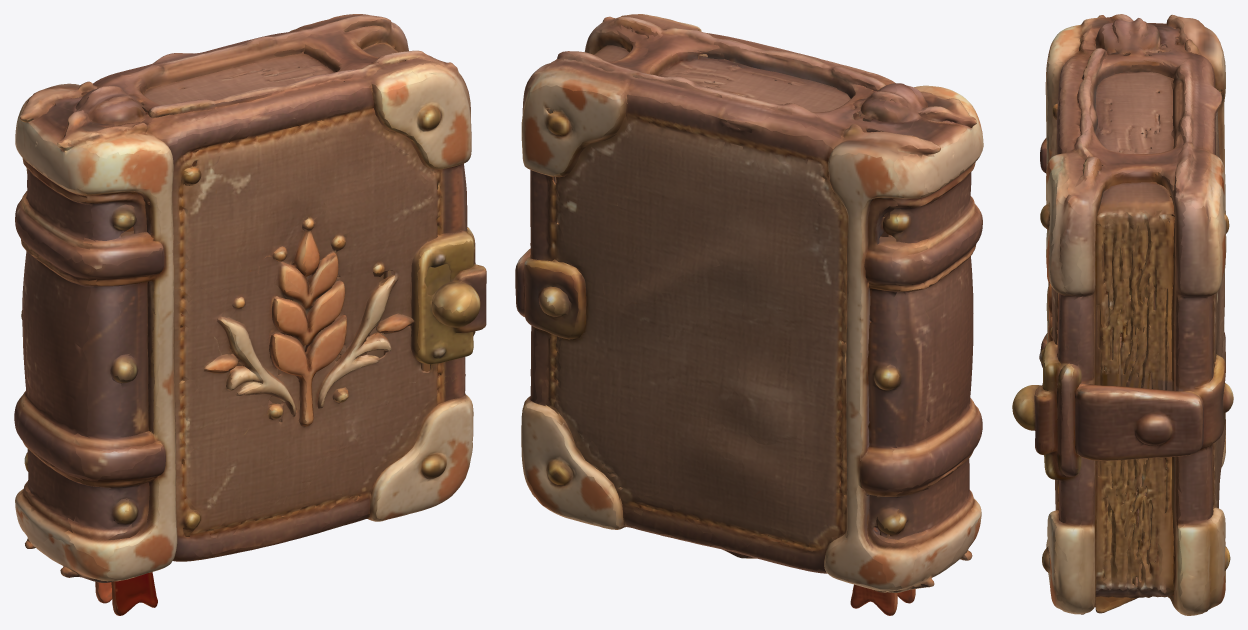
Rendered from A7_菜谱本_当前生成版.glb.
3 renders of one model, left to right at view 1: azimuth 30°, elevation 25°; view 2: azimuth 150°, elevation 25°; view 3: azimuth 270°, elevation 25°, orthographic. The views are drawn at different scales.
Parts seen in each view (by area): view 1: geometry_0; view 2: geometry_0; view 3: geometry_0.
Part boxes in pixels (box(x1,y1,x2,y2)): geometry_0: box(14, 14, 486, 615); geometry_0: box(515, 14, 983, 615); geometry_0: box(1012, 14, 1233, 615).
Bounding box in the file's own units: 0.15 × 0.1781 × 0.0711.
1 material, 1 textured.
